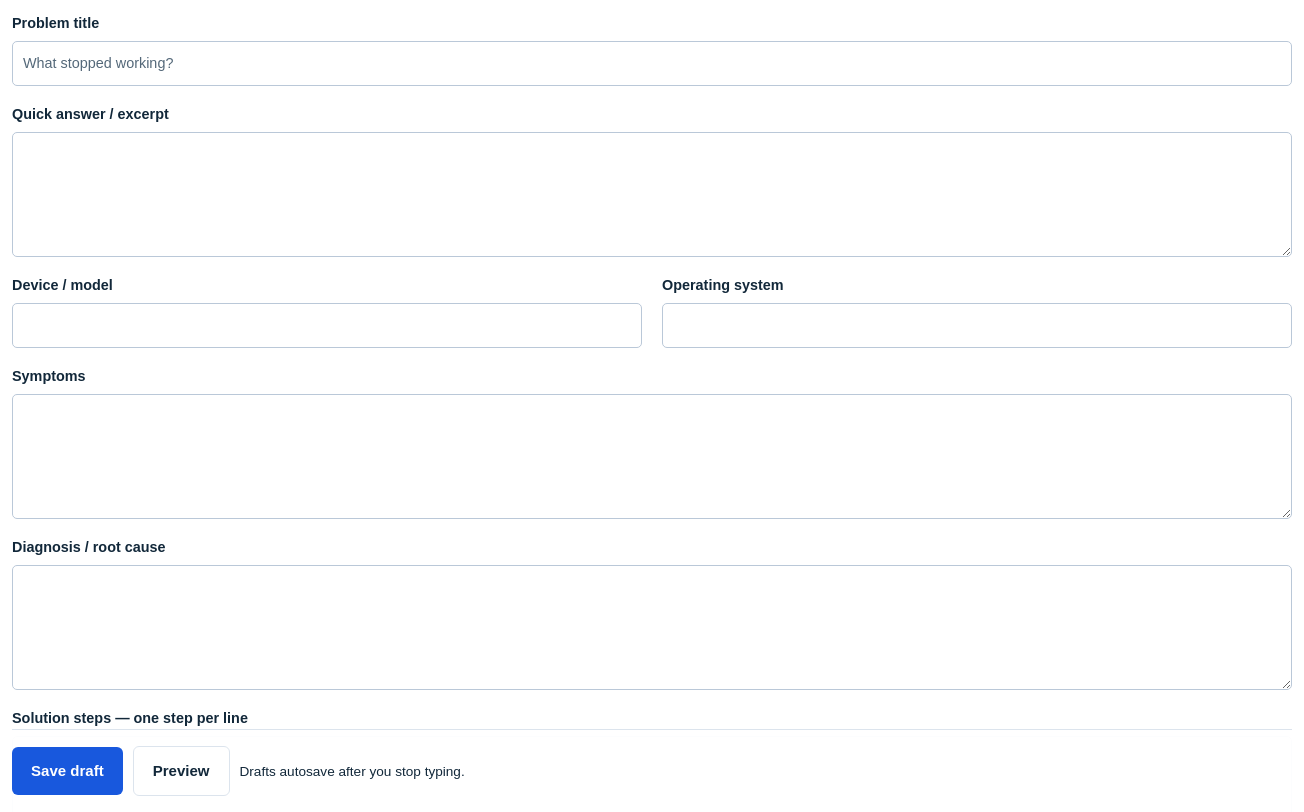
Scenario: mobile technician editor › preserves an unsaved draft on server failure
This screenshot has width=1304, height=812.
Type "A private repair draft" into the field labelled "Problem title".
click(652, 64); type("A private repair draft")  # box [12,41,1292,86]
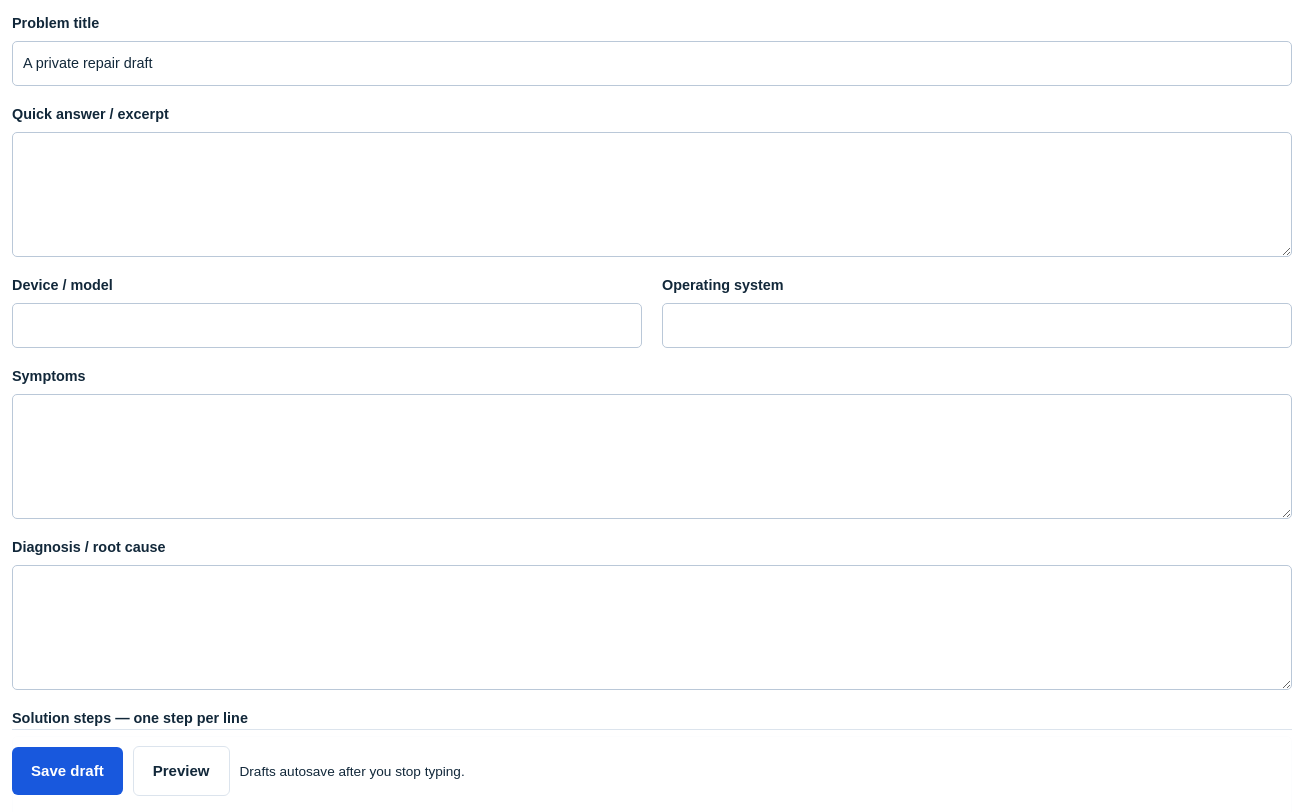
Click the button "Save draft".
click(67, 771)  # box [12,747,123,795]
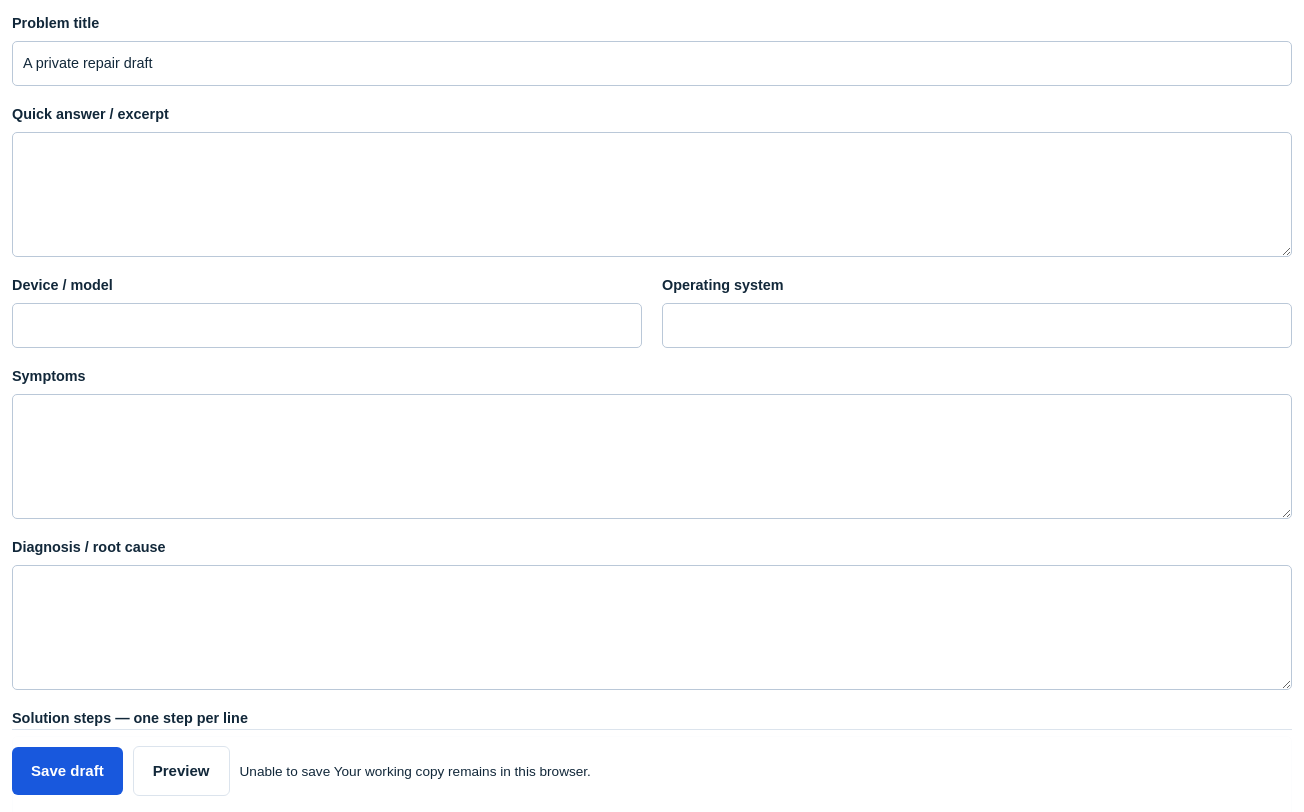
Check: the message named "Save status" shows "working copy remains", box [240,763,591,778]
